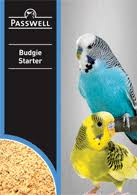budgie: (73, 32, 135, 112), (70, 111, 130, 191)
